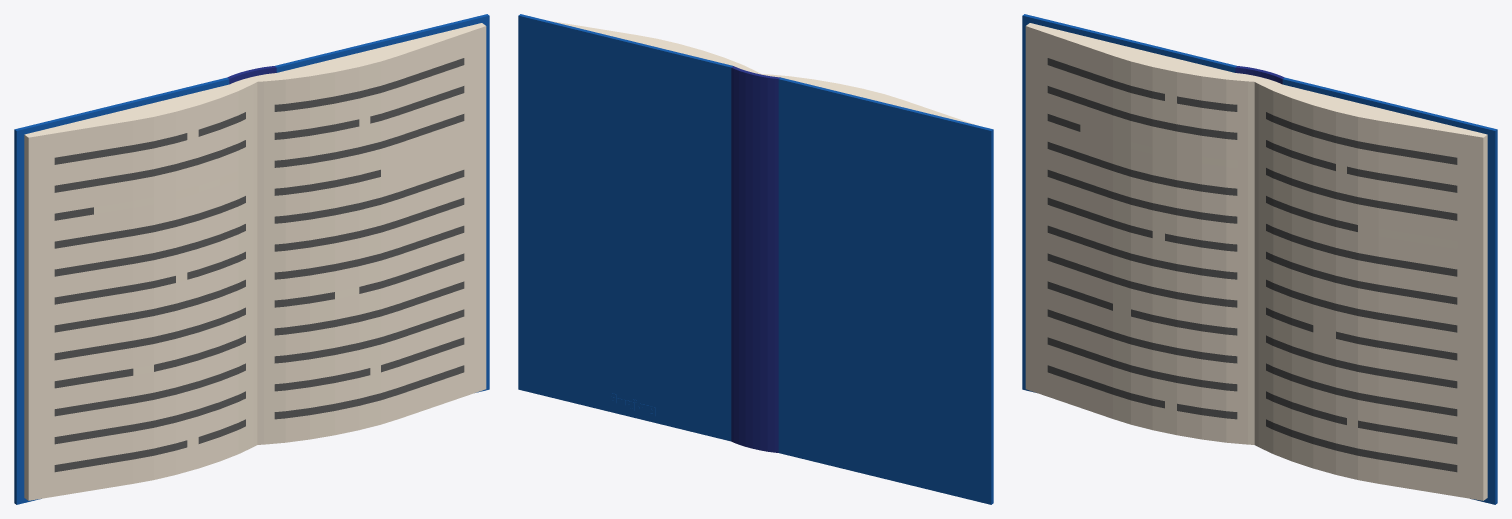
The model's file is open_book.fbx.
The picture shows the model from 3 angles, left to right: view 1: azimuth 30°, elevation 25°; view 2: azimuth 150°, elevation 25°; view 3: azimuth 330°, elevation 25°; orthographic projection.
Parts seen in each view (by area): view 1: Cube.946; view 2: Cube.946; view 3: Cube.946.
Boxes of the visible parts, <box> form: Cube.946: <box>14,14,489,504</box>; Cube.946: <box>518,14,993,504</box>; Cube.946: <box>1022,14,1497,504</box>.
Size of the model in its own units: 240 by 181 by 16.56.
Materials: 1 (1 with a texture image).
